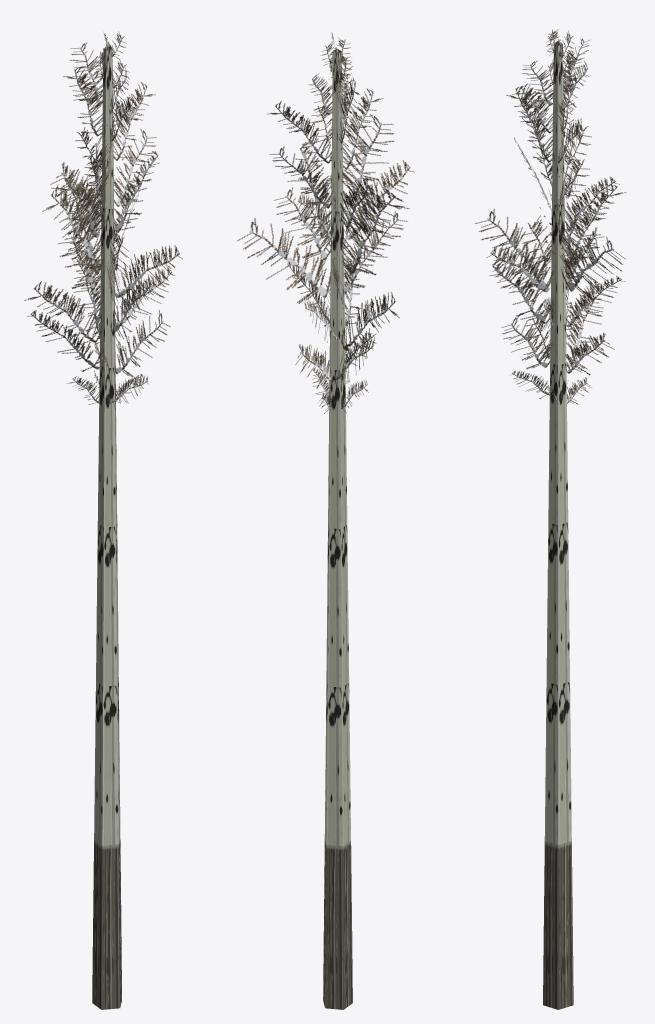
The model's file is Aspen.glb.
3 views of the same model, side by side, from view 1: azimuth 30°, elevation 25°; view 2: azimuth 150°, elevation 25°; view 3: azimuth 270°, elevation 25° (orthographic).
Parts seen in each view (by area): view 1: Aspen; view 2: Aspen; view 3: Aspen.
Boxes of the visible parts, x1,y1,x2,y2 form: Aspen: (24,31,182,1009); Aspen: (237,32,414,1009); Aspen: (474,29,626,1009).
Size of the model in its own units: 1.29 by 7.83 by 1.3.
1 material, 1 textured.
